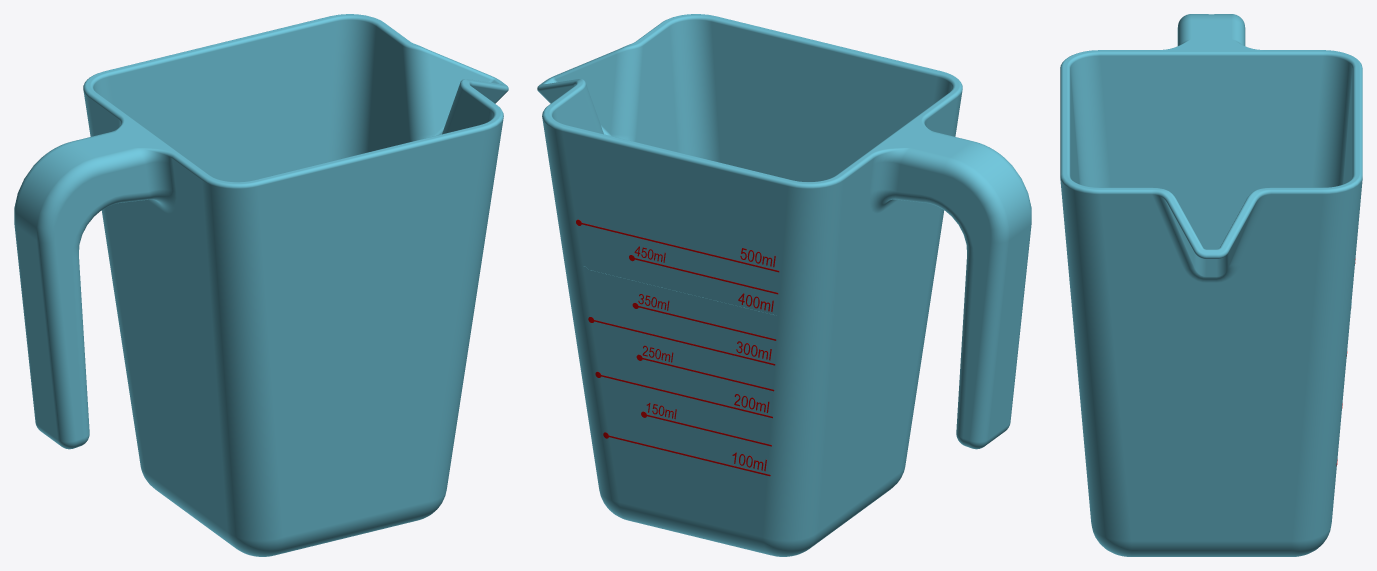
Rendered from Jarra 500ml.fbx.
The picture shows the model from 3 angles, left to right: view 1: azimuth 30°, elevation 25°; view 2: azimuth 150°, elevation 25°; view 3: azimuth 270°, elevation 25°; orthographic projection.
Parts seen in each view (by area): view 1: Body2; view 2: Body2; view 3: Body2.
Part boxes in pixels (x1,y1,x2,y2): Body2: [14, 14, 508, 556]; Body2: [537, 14, 1031, 556]; Body2: [1060, 14, 1362, 556].
Size of the model in its own units: 322 by 260 by 180.
